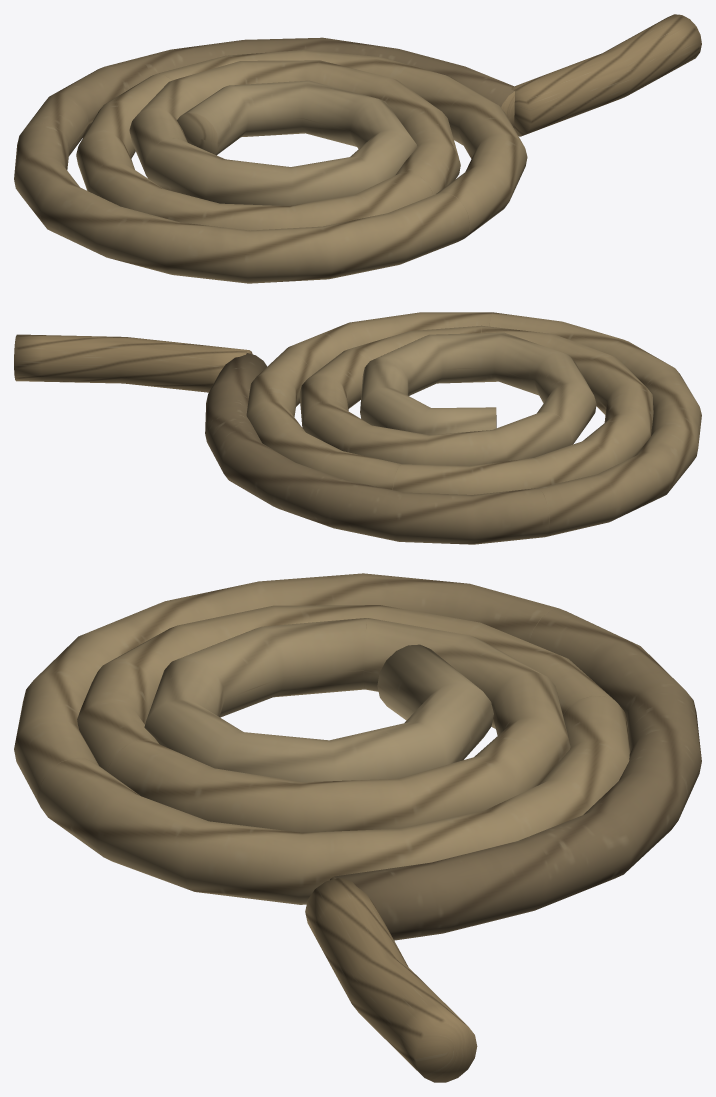
File: rope_coil_sm.glb
3 views of the same model, one above another, from view 1: azimuth 30°, elevation 25°; view 2: azimuth 150°, elevation 25°; view 3: azimuth 270°, elevation 25° (orthographic). The views are drawn at different scales.
Visible parts, largest first — view 1: rope_coil_sm_LOD0; view 2: rope_coil_sm_LOD0; view 3: rope_coil_sm_LOD0.
Part boxes in pixels (x1=…): rope_coil_sm_LOD0: x1=14, y1=14, x2=701, y2=283; rope_coil_sm_LOD0: x1=14, y1=312, x2=701, y2=544; rope_coil_sm_LOD0: x1=14, y1=573, x2=701, y2=1082.
Size of what is drawn, in the model's own units: 0.5908 by 0.0655 by 0.3814.
Materials: 1 (1 with a texture image).
